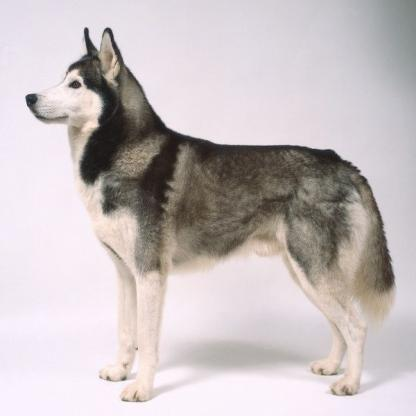husky: (24, 29, 394, 407)
